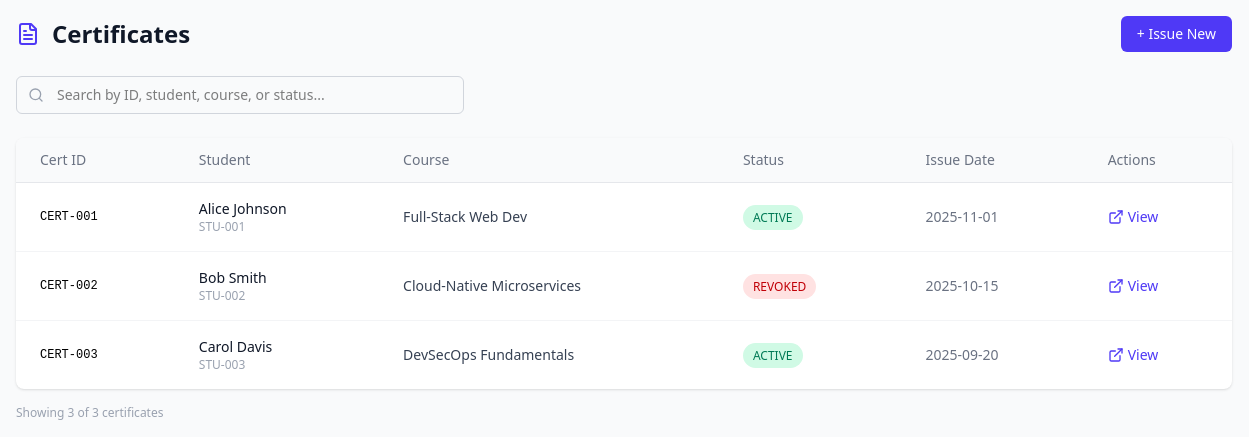
CertificateList › filters certificates by search
Expected: the text "CERT-001" is shown, x1=16 y1=182 x2=175 y2=252
Expected: the text "CERT-002" is shown, x1=16 y1=252 x2=175 y2=320
Type "Alice" into the field with placeholder "Search by ID, student, course, or status..." at coordinates (240, 95), box x1=16 y1=76 x2=464 y2=114
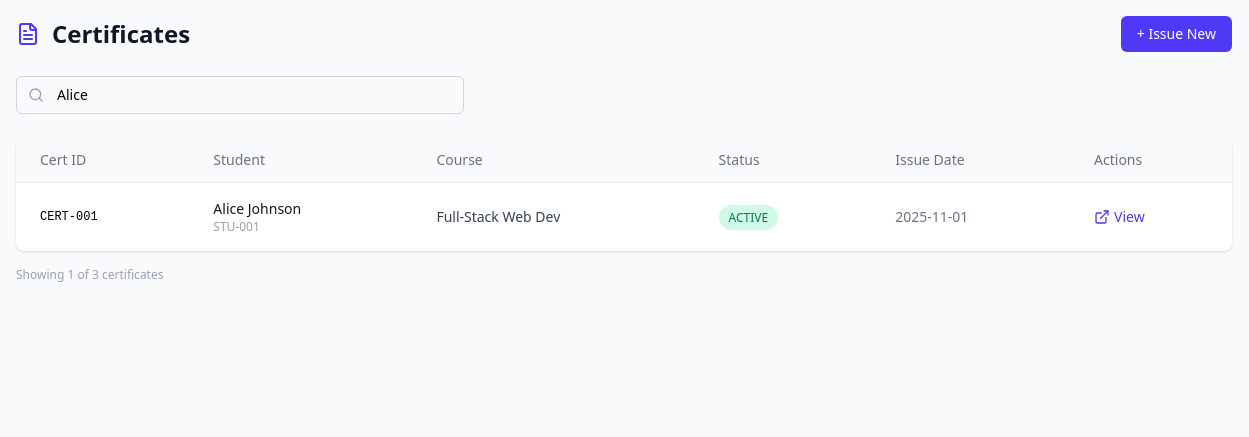
Expected: the text "CERT-001" is shown, x1=16 y1=182 x2=189 y2=251
Result: the text "CERT-002" is gone
Result: the text "CERT-003" is gone
